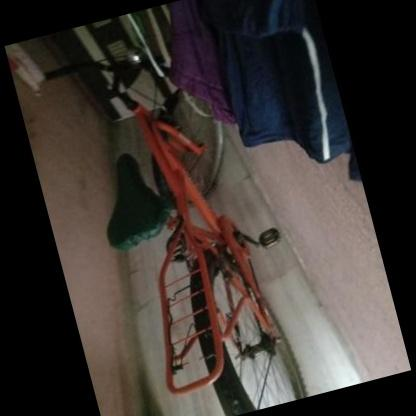Bicycle: (92, 21, 315, 412)
